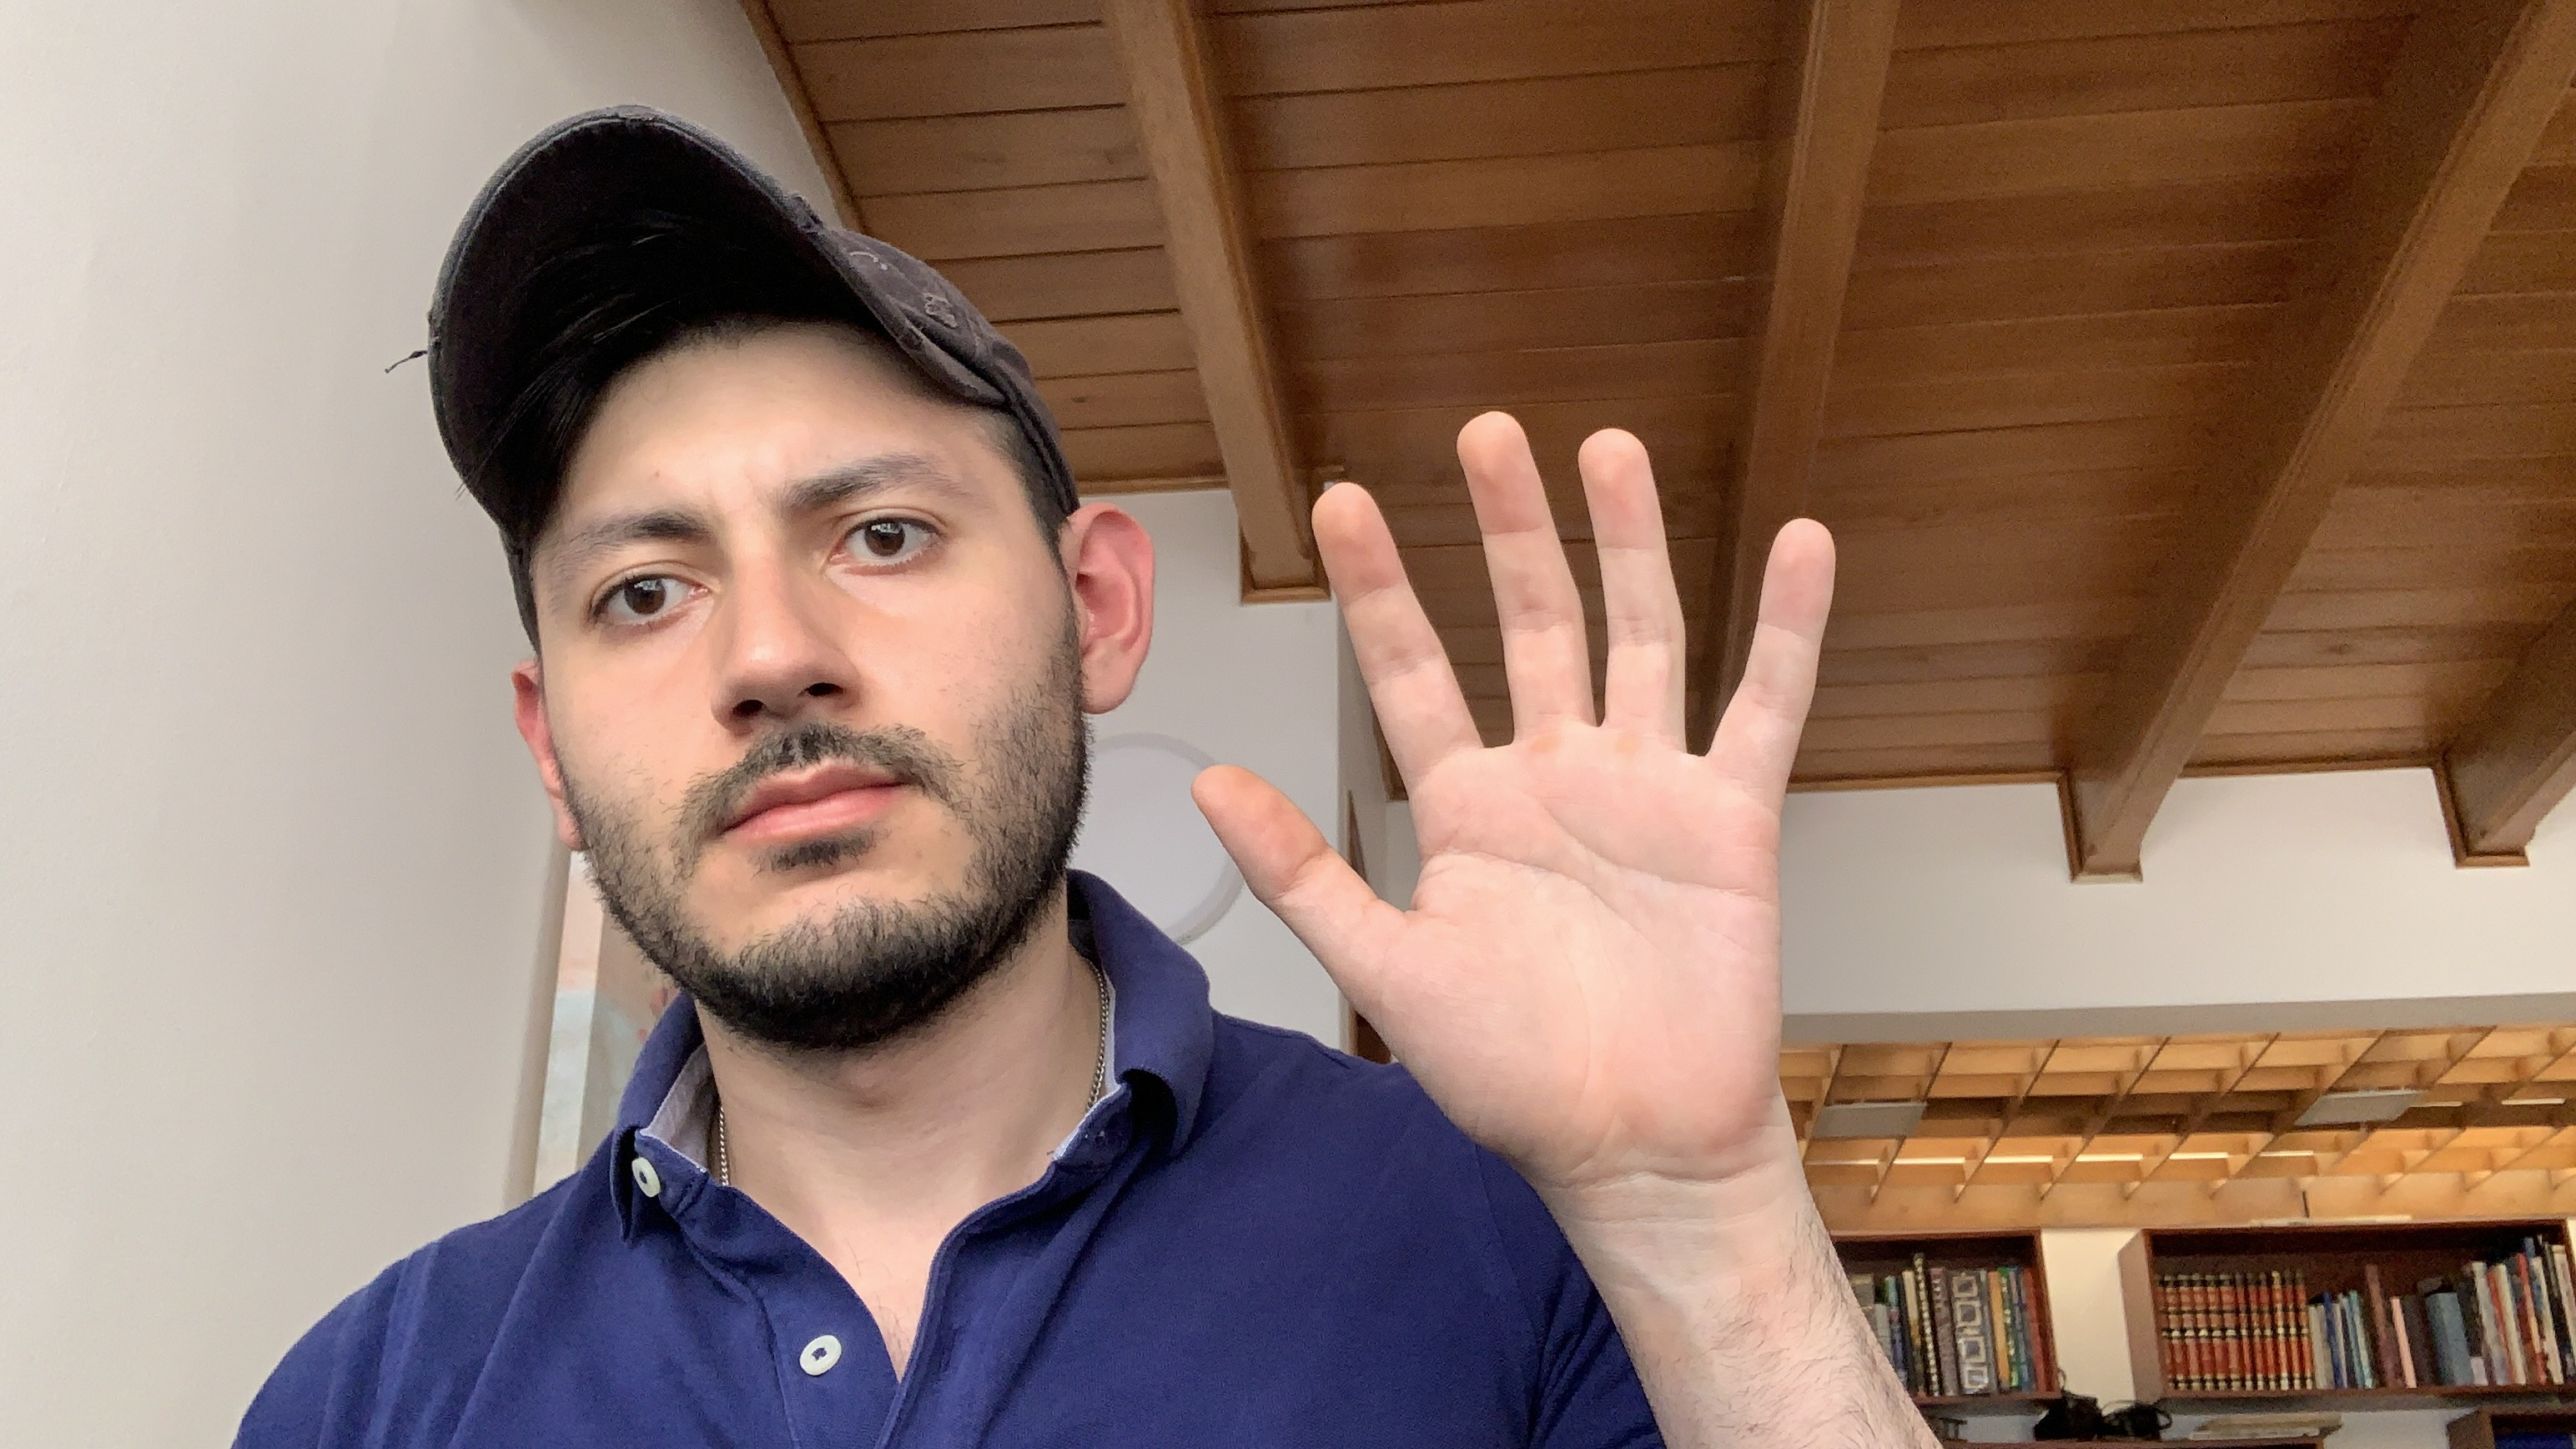Hello: (1178, 395, 1858, 1189)
